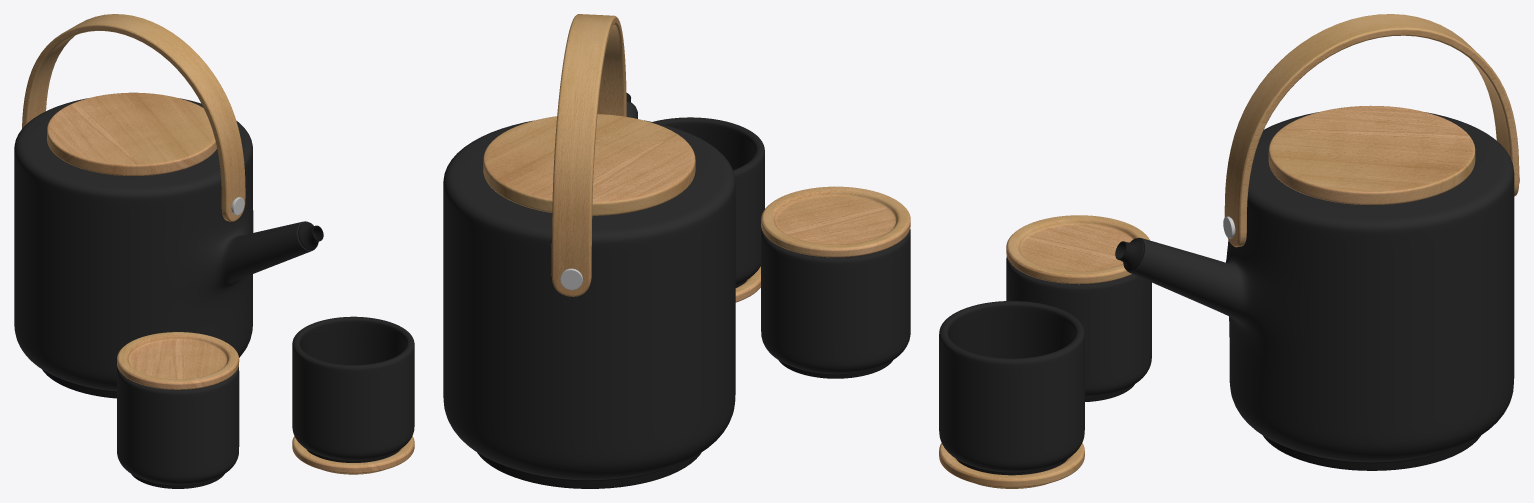
File: TeaTime.fbx
3 views of the same model, side by side, from view 1: azimuth 30°, elevation 25°; view 2: azimuth 150°, elevation 25°; view 3: azimuth 270°, elevation 25° (orthographic). The views are drawn at different scales.
Visible parts, largest first — view 1: Teapot, CupLid.001, CupLid; view 2: Teapot, CupLid, CupLid.001; view 3: Teapot, CupLid.001, CupLid.
Part boxes in pixels (x1,y1,x2,y2): Teapot: (14,14,323,398); CupLid.001: (292,316,414,474); CupLid: (117,332,239,488); Teapot: (443,14,735,488); CupLid: (761,186,910,378); CupLid.001: (653,117,764,302); Teapot: (1115,14,1519,470); CupLid.001: (939,301,1084,488); CupLid: (1006,215,1151,401).
Size of what is drawn, in the model's own units: 25.05 by 31.81 by 41.76.
